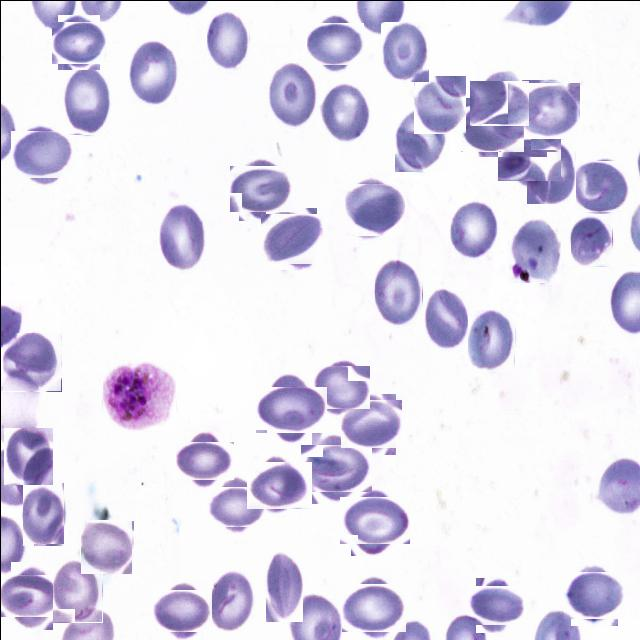red blood cell: (344, 490, 404, 550), (305, 438, 365, 498), (262, 379, 321, 438), (2, 332, 61, 391), (462, 95, 521, 154), (520, 80, 578, 139), (508, 217, 560, 282), (128, 39, 178, 106), (374, 258, 422, 327), (61, 67, 110, 134), (158, 202, 205, 271), (394, 109, 446, 171), (346, 180, 402, 237), (268, 62, 316, 128), (52, 559, 102, 622), (345, 578, 401, 634), (262, 210, 318, 266), (526, 139, 575, 203), (250, 457, 306, 512), (13, 126, 68, 182), (343, 396, 398, 451), (234, 160, 288, 216), (467, 309, 515, 372), (413, 75, 465, 133), (207, 566, 252, 632), (449, 199, 497, 260), (321, 82, 369, 143), (566, 567, 620, 621), (4, 568, 58, 622), (574, 158, 628, 212), (380, 21, 428, 81), (472, 75, 525, 128), (502, 132, 556, 184), (3, 427, 52, 484), (423, 288, 468, 349), (156, 584, 208, 636), (80, 520, 132, 572), (22, 482, 64, 546), (265, 549, 302, 621), (314, 361, 366, 412), (210, 480, 260, 530), (310, 18, 360, 68), (206, 11, 248, 70), (179, 436, 228, 484), (54, 18, 102, 66), (570, 213, 612, 267), (472, 580, 518, 628)
schizont: (102, 360, 175, 430)
